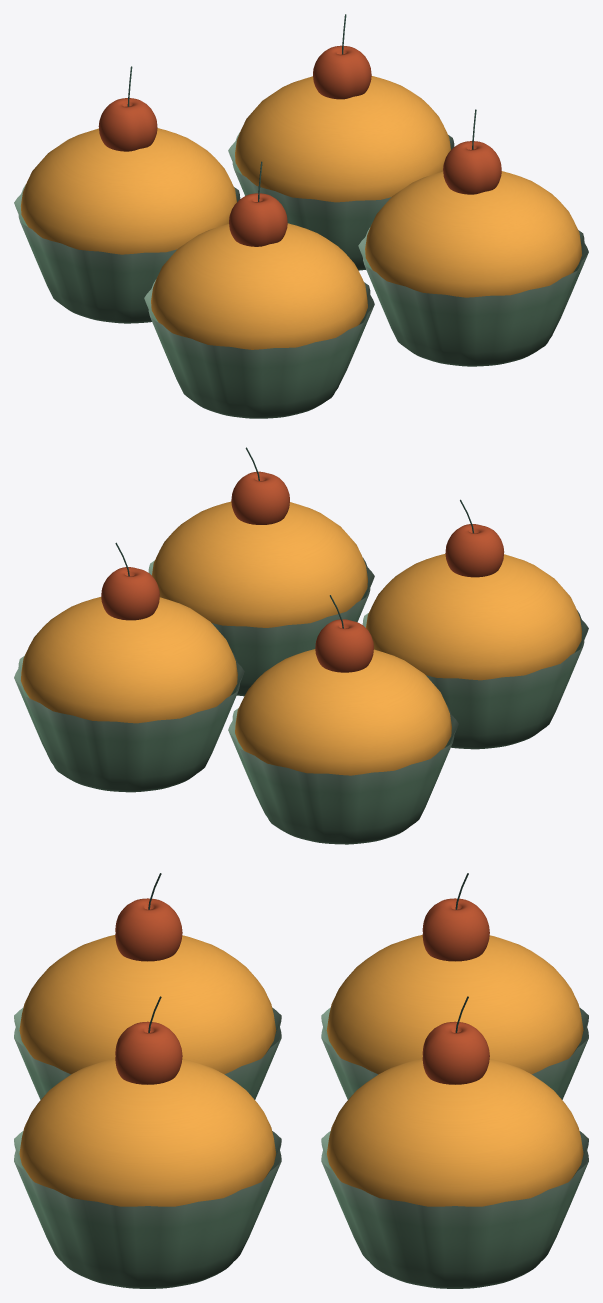
File: Half_Cupcake.fbx
3 views of the same model, one above another, from view 1: azimuth 30°, elevation 25°; view 2: azimuth 150°, elevation 25°; view 3: azimuth 270°, elevation 25° (orthographic). The views are drawn at different scales.
Parts seen in each view (by area): view 1: Half_Cupcake; view 2: Half_Cupcake; view 3: Half_Cupcake.
Part boxes in pixels (x1,y1,x2,y2): Half_Cupcake: (14, 14, 588, 418); Half_Cupcake: (14, 447, 588, 844); Half_Cupcake: (14, 873, 588, 1288).
Bounding box in the file's own units: 23.5 × 12.12 × 24.15.
